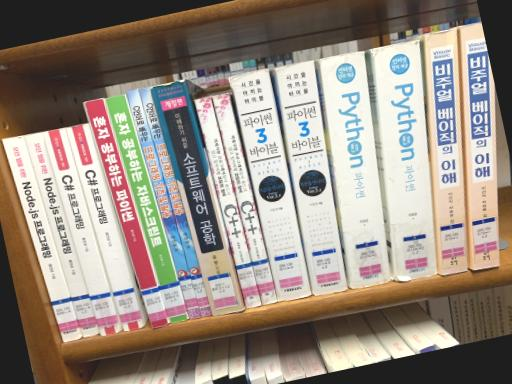book-spine: (152, 80, 243, 317), (84, 98, 169, 329), (105, 95, 187, 324), (231, 69, 311, 300), (127, 89, 202, 320), (275, 61, 347, 296), (140, 87, 213, 317), (321, 51, 391, 289), (2, 136, 81, 342), (43, 128, 121, 336), (66, 124, 143, 331), (23, 132, 99, 338), (373, 41, 437, 282), (195, 97, 261, 307), (213, 93, 277, 305), (426, 28, 468, 276), (461, 23, 500, 270)
